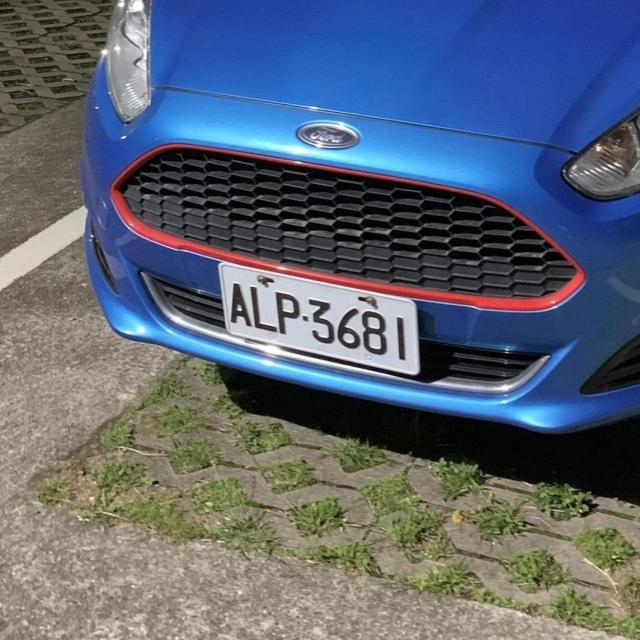W: (206, 244, 434, 391)
